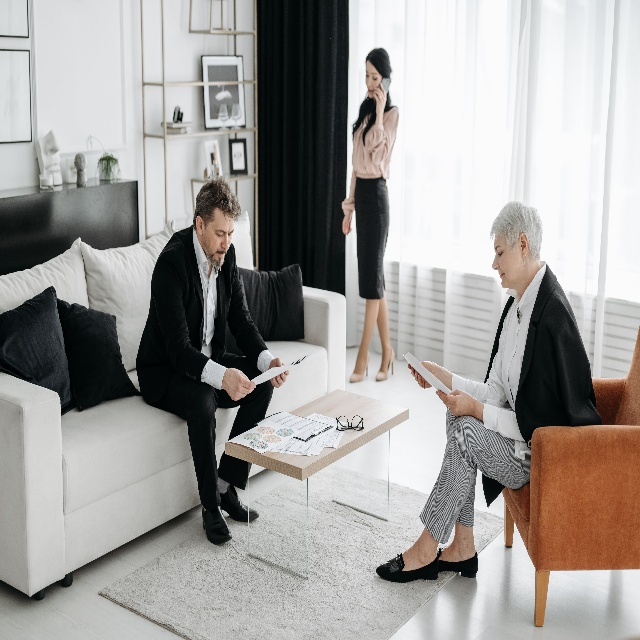Gafas: (335, 415, 364, 431)
Sin_guantes: (222, 368, 256, 402), (435, 388, 473, 417), (407, 361, 438, 389), (268, 356, 289, 389), (373, 82, 388, 116), (342, 215, 352, 235)
